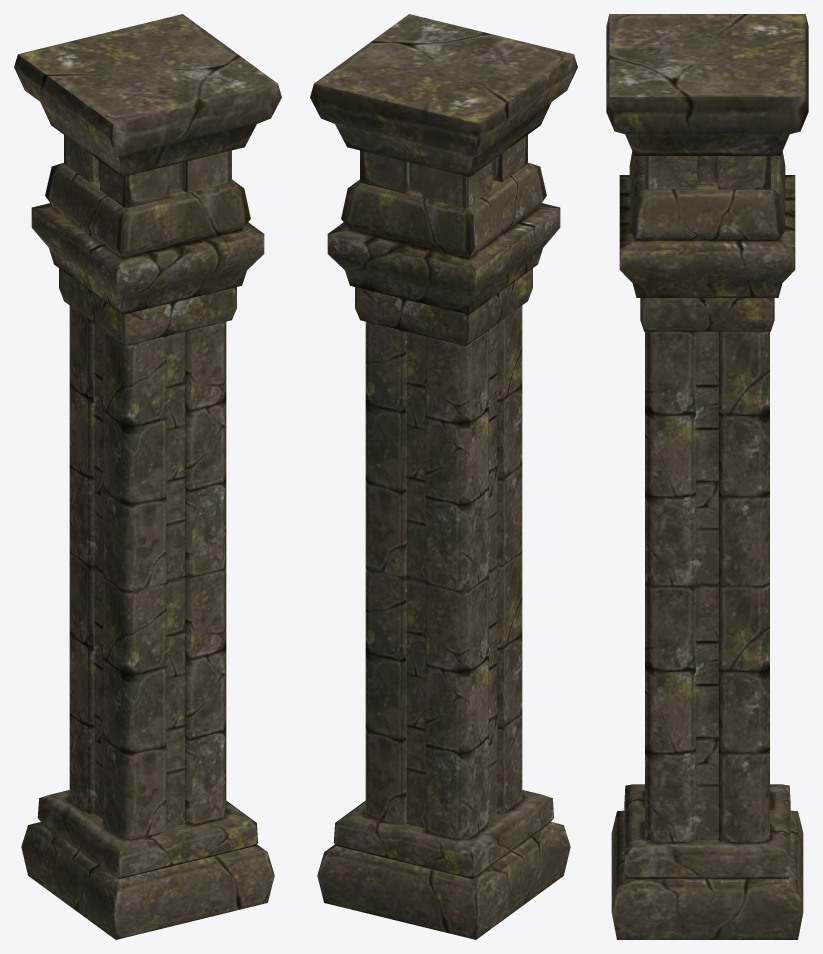
Rendered from Column_B_03-transformed.glb.
3 renders of one model, left to right at view 1: azimuth 30°, elevation 25°; view 2: azimuth 150°, elevation 25°; view 3: azimuth 270°, elevation 25°, orthographic. The views are drawn at different scales.
Parts seen in each view (by area): view 1: default; view 2: default; view 3: default.
Part boxes in pixels (<box>): default: <box>14,14,281,939</box>; default: <box>310,14,577,939</box>; default: <box>606,14,808,939</box>.
Bounding box in the file's own units: 1.73 × 8 × 1.73.
1 material, 1 textured.
